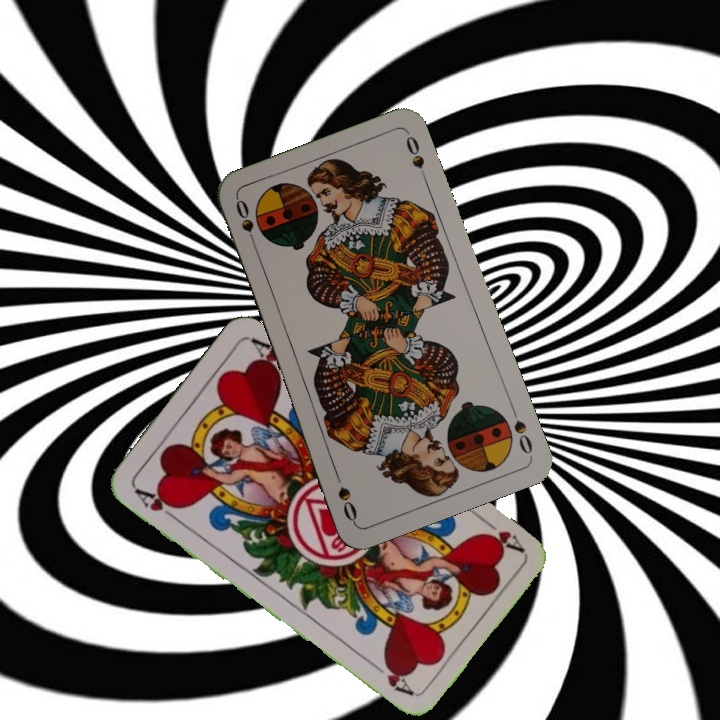HA: (475, 511, 526, 555), (130, 484, 183, 524)
SO: (231, 195, 260, 253), (507, 401, 535, 457)
